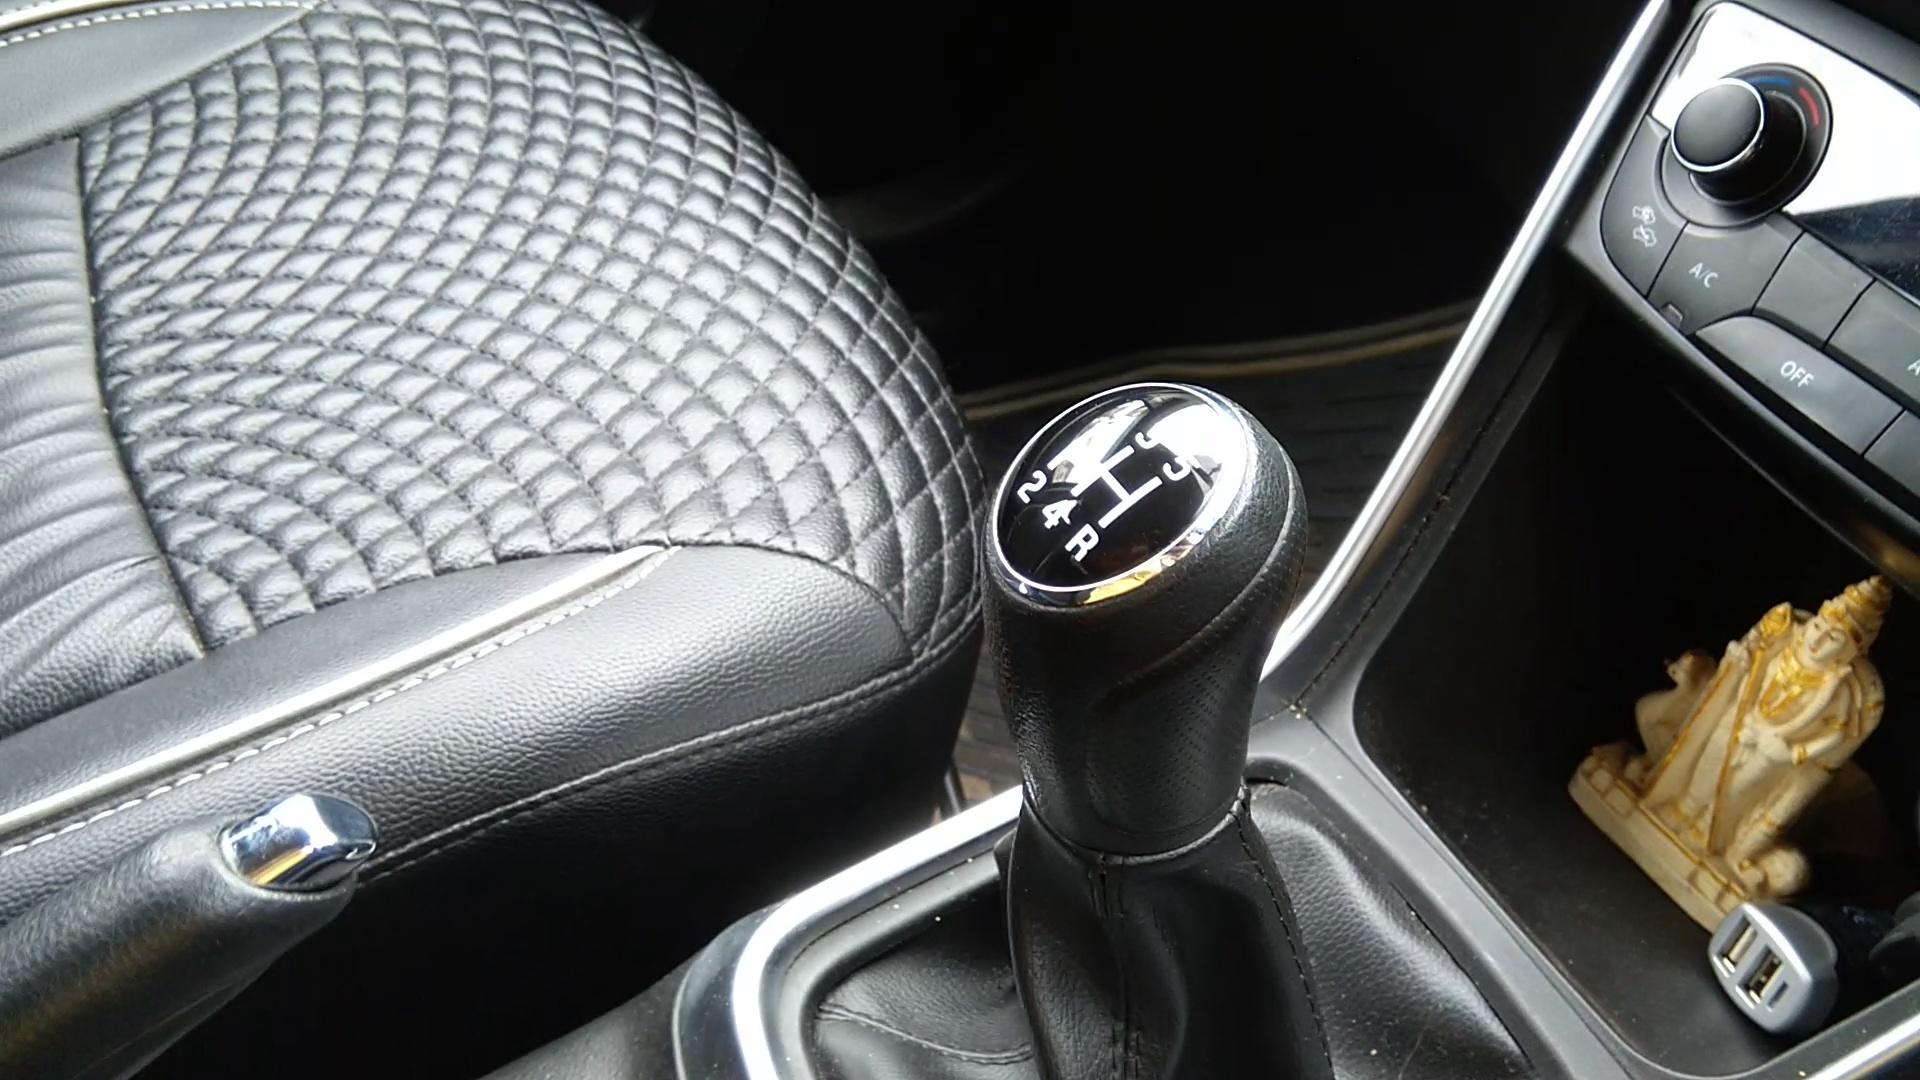manual_gear: (978, 372, 1319, 905)
